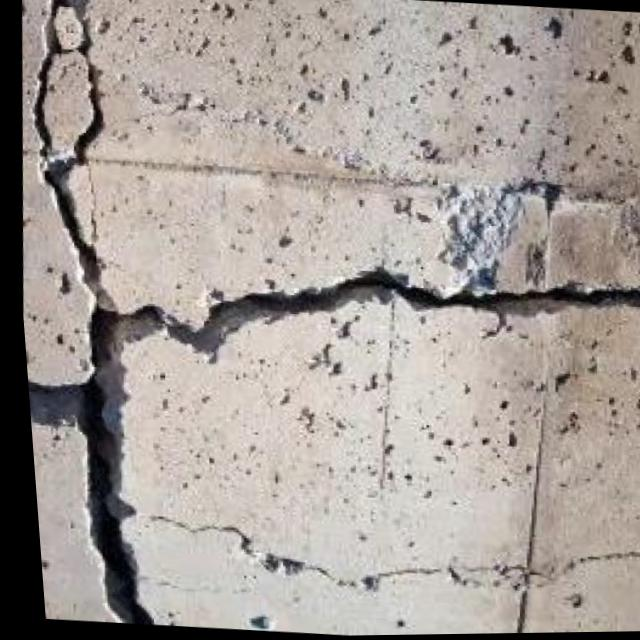Crack: (0, 0, 218, 628), (51, 238, 640, 409)
